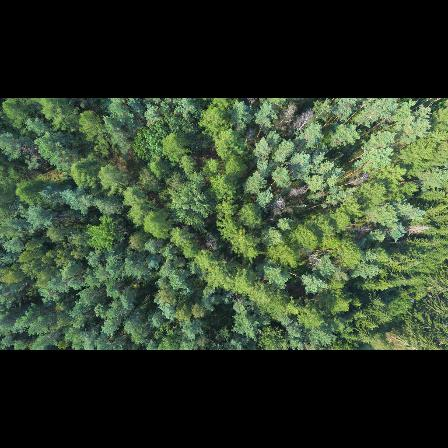Dead: (276, 101, 299, 126), (294, 108, 316, 134), (345, 171, 376, 189), (270, 195, 288, 216)
